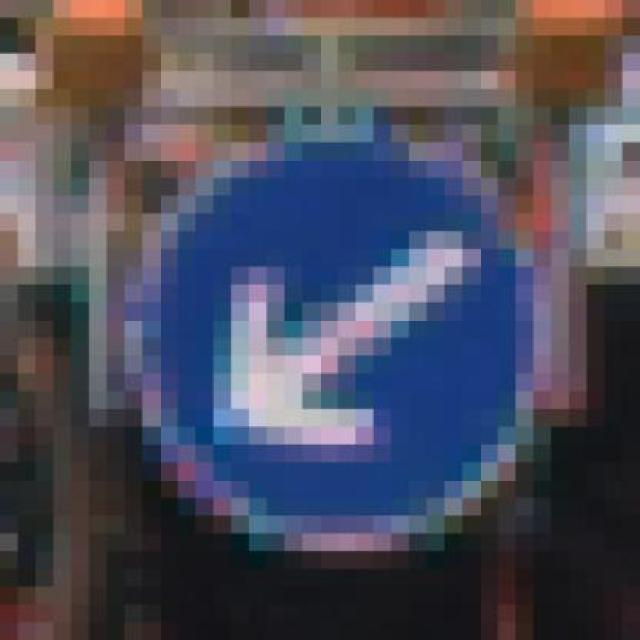Keep-Left: (106, 106, 569, 569)
